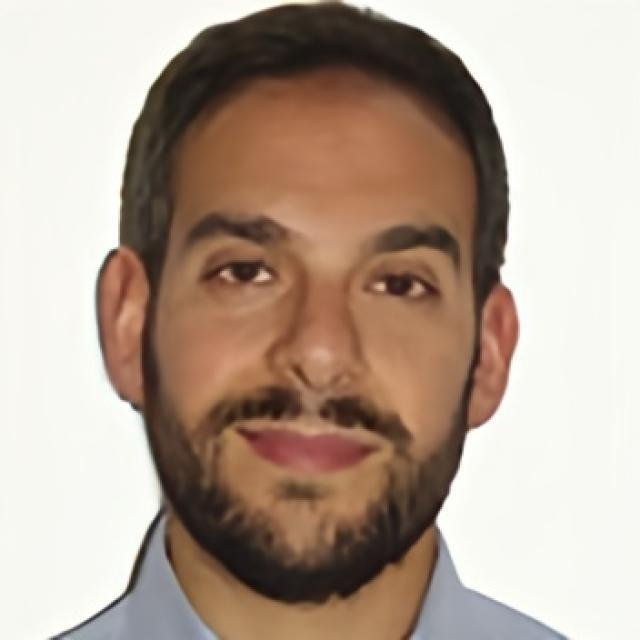content: (152, 67, 480, 595)
